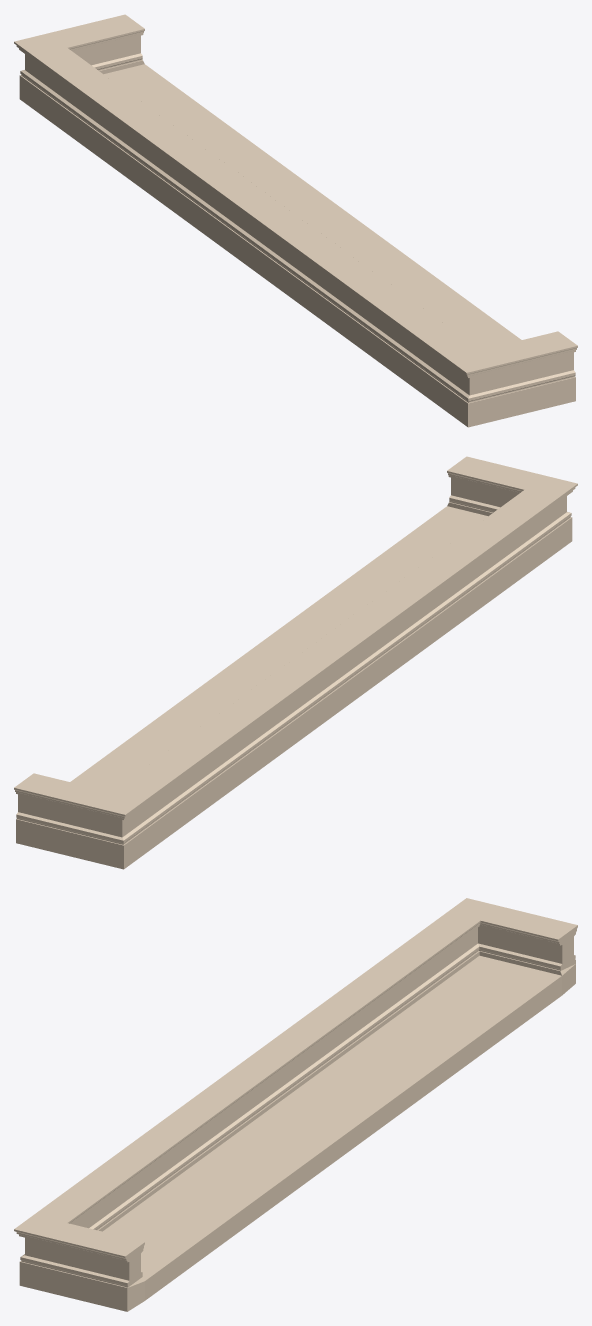
File: BC_Frame_E_01.fbx
The picture shows the model from 3 angles, top to bottom: view 1: azimuth 30°, elevation 25°; view 2: azimuth 150°, elevation 25°; view 3: azimuth 330°, elevation 25°; orthographic projection.
Visible parts, largest first — view 1: BC_Frame_E_01; view 2: BC_Frame_E_01; view 3: BC_Frame_E_01.
Part boxes in pixels (left/top/right/bottom): BC_Frame_E_01: left=14, top=14, right=577, bottom=427; BC_Frame_E_01: left=14, top=456, right=577, bottom=869; BC_Frame_E_01: left=14, top=898, right=577, bottom=1311.
Size of the model in its own units: 484 by 233 by 3349.
